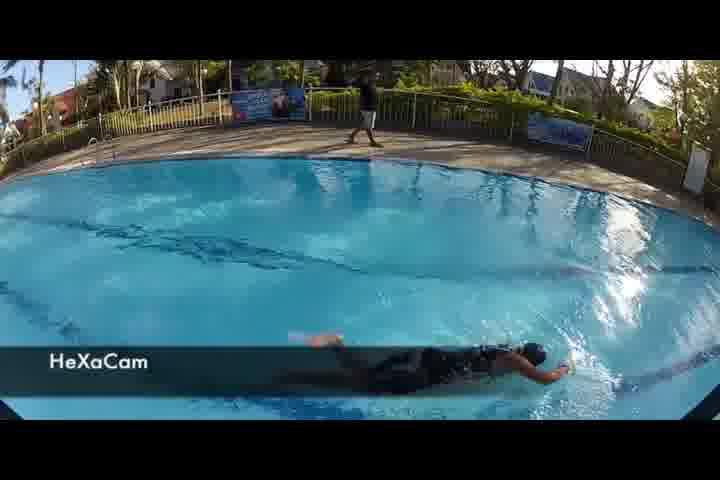swimmer: (285, 330, 572, 392)
